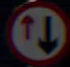Two way: (6, 4, 65, 56)
